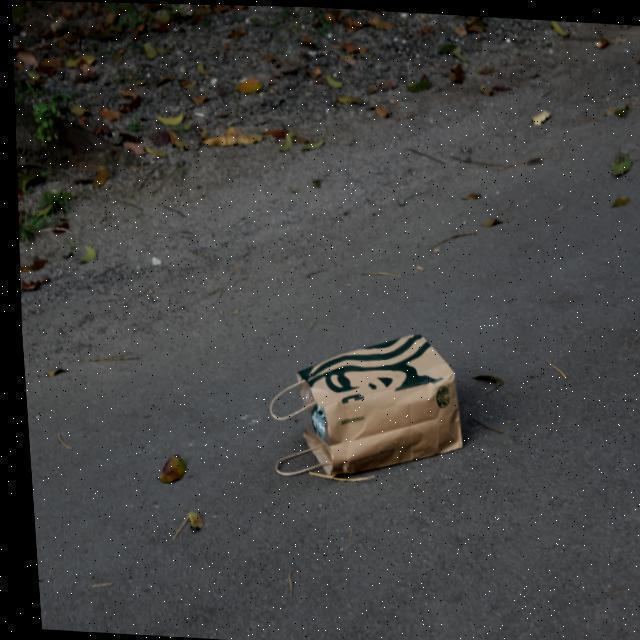Paper_Bag: (259, 320, 462, 485)
